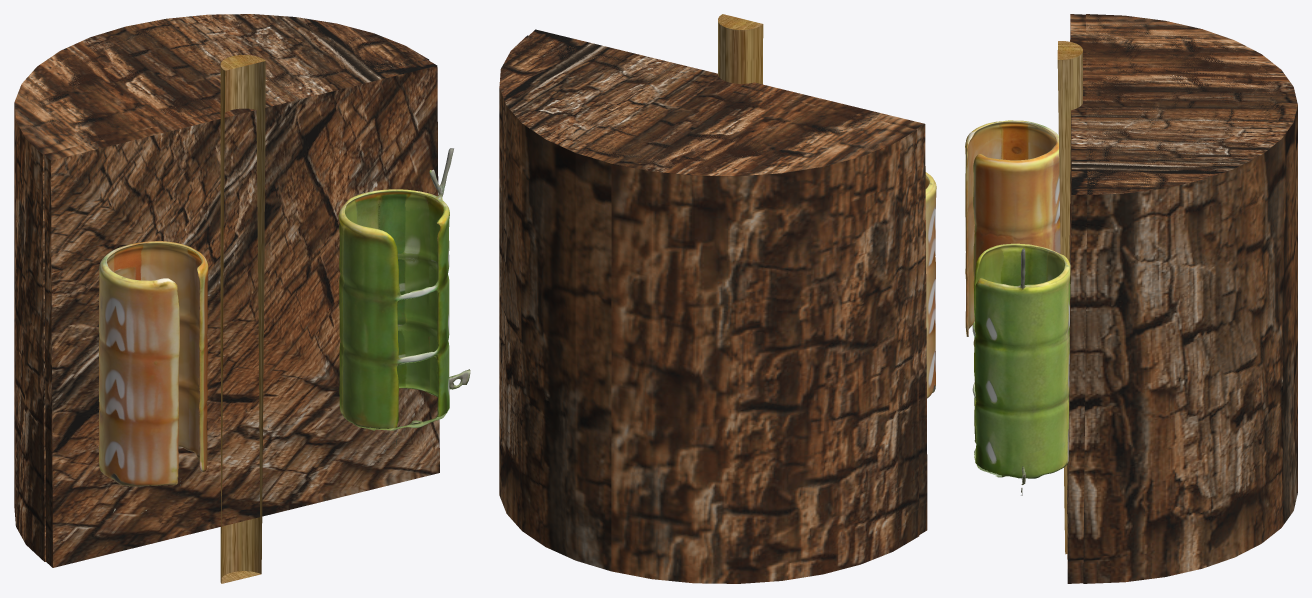
The model's file is stem.glb.
3 renders of one model, left to right at view 1: azimuth 30°, elevation 25°; view 2: azimuth 150°, elevation 25°; view 3: azimuth 270°, elevation 25°, orthographic. The views are drawn at different scales.
Parts seen in each view (by area): view 1: Cylinder, Mesh_0, Cylinder.001, Cylinder.005; view 2: Cylinder.001, Cylinder, Cylinder.005, Mesh_0; view 3: Cylinder.001, Mesh_0, Cylinder, Cylinder.005.
Part boxes in pixels (box(x1,y1,x2,y2)): Cylinder: box(22, 20, 439, 567); Mesh_0: box(99, 148, 470, 513); Cylinder.001: box(14, 14, 429, 561); Cylinder.005: box(220, 55, 265, 583); Cylinder.001: box(499, 35, 919, 583); Cylinder: box(517, 29, 927, 534); Cylinder.005: box(718, 14, 763, 84); Mesh_0: box(925, 172, 936, 398); Cylinder.001: box(1083, 14, 1297, 583); Mesh_0: box(965, 120, 1070, 495); Cylinder: box(1067, 14, 1281, 583); Cylinder.005: box(1057, 41, 1082, 554).
Bounding box in the file's own units: 2.04 × 2.54 × 1.55.
5 materials, 5 textured.
